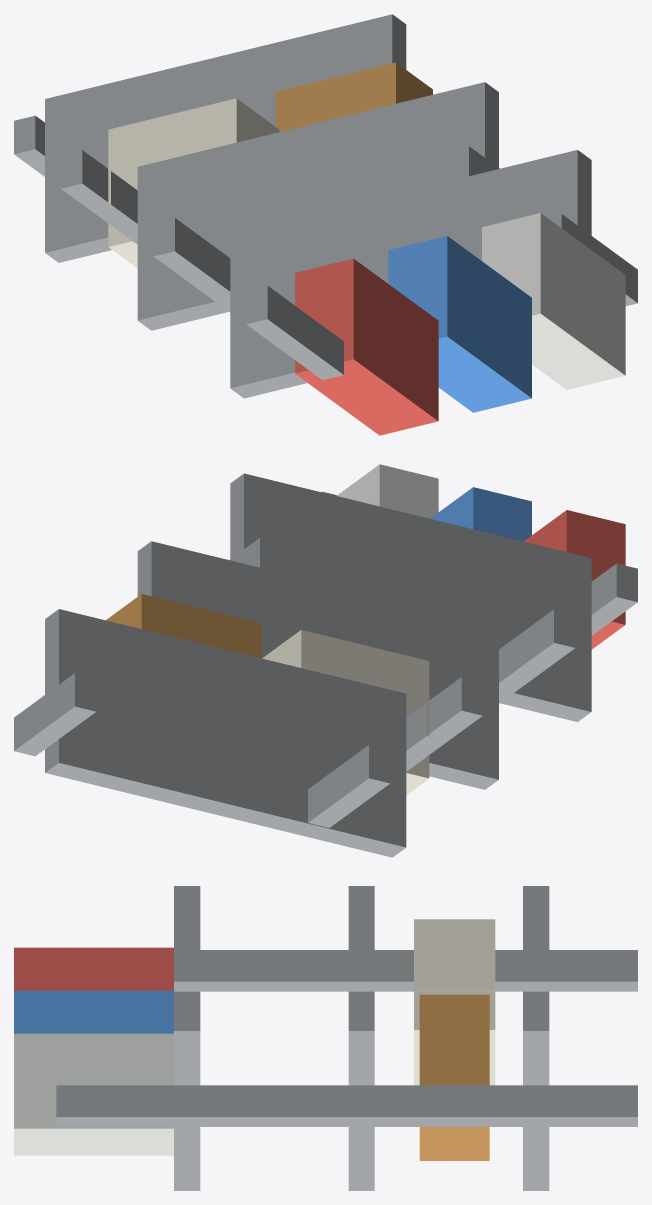
The model's file is storage_shelf.glb.
The picture shows the model from 3 angles, top to bottom: view 1: azimuth 30°, elevation 25°; view 2: azimuth 150°, elevation 25°; view 3: azimuth 270°, elevation 25°; orthographic projection. The views are drawn at different scales.
Visible parts, largest first — view 1: shelf_level_1, shelf_level_2, shelf_level_0, shelf_binder_0, shelf_binder_1, shelf_binder_2, shelf_post_l, shelf_box_a, shelf_box_b, shelf_post_r; view 2: shelf_level_0, shelf_level_2, shelf_level_1, shelf_post_l, shelf_box_a, shelf_box_b, shelf_binder_0, shelf_post_r, shelf_binder_2, shelf_binder_1; view 3: shelf_post_r, shelf_post_l, shelf_binder_2, shelf_box_b, shelf_box_a, shelf_binder_0, shelf_binder_1, shelf_level_0, shelf_level_1, shelf_level_2.
Part boxes in pixels (x1,y1,x2,y2): shelf_level_1: [137, 82, 498, 330]; shelf_level_2: [230, 150, 591, 398]; shelf_level_0: [45, 14, 406, 262]; shelf_binder_0: [295, 258, 438, 435]; shelf_binder_1: [388, 236, 531, 412]; shelf_binder_2: [482, 213, 625, 389]; shelf_post_l: [14, 115, 343, 380]; shelf_box_a: [108, 98, 279, 268]; shelf_box_b: [275, 62, 432, 131]; shelf_post_r: [469, 146, 637, 305]; shelf_level_0: [45, 609, 406, 857]; shelf_level_2: [230, 473, 591, 721]; shelf_level_1: [137, 541, 498, 789]; shelf_post_l: [308, 563, 637, 827]; shelf_box_a: [262, 630, 429, 794]; shelf_box_b: [106, 594, 261, 658]; shelf_binder_0: [524, 510, 625, 649]; shelf_post_r: [14, 491, 336, 756]; shelf_binder_2: [337, 464, 438, 518]; shelf_binder_1: [430, 487, 531, 541]; shelf_post_r: [56, 1085, 637, 1126]; shelf_post_l: [174, 950, 637, 991]; shelf_binder_2: [14, 1033, 173, 1155]; shelf_box_b: [419, 994, 489, 1160]; shelf_box_a: [414, 919, 495, 1085]; shelf_binder_0: [14, 947, 173, 990]; shelf_binder_1: [14, 990, 173, 1033]; shelf_level_0: [523, 886, 549, 1190]; shelf_level_1: [348, 886, 374, 1190]; shelf_level_2: [174, 886, 200, 1190].
Size of the model in its own units: 1.3 by 0.55 by 2.14.
